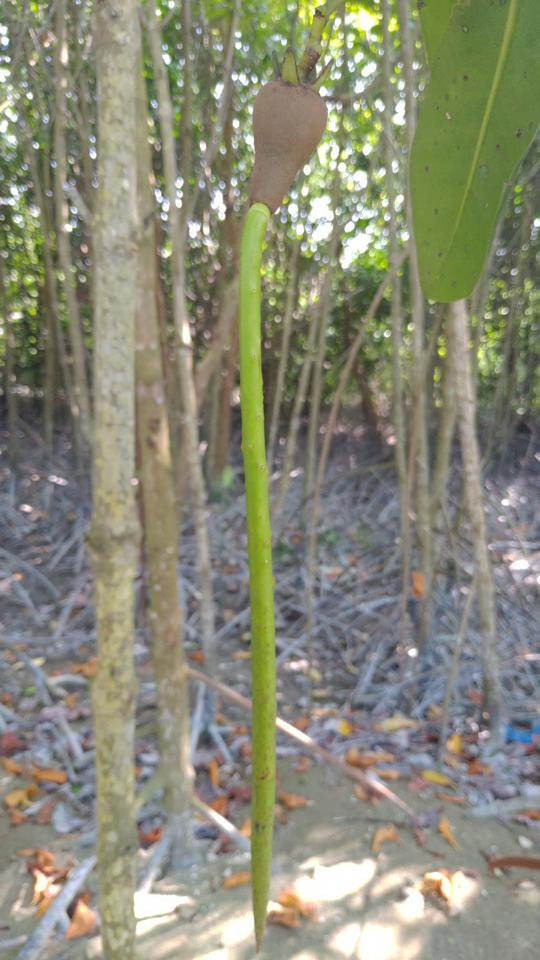setengah matang: (227, 49, 341, 956)
